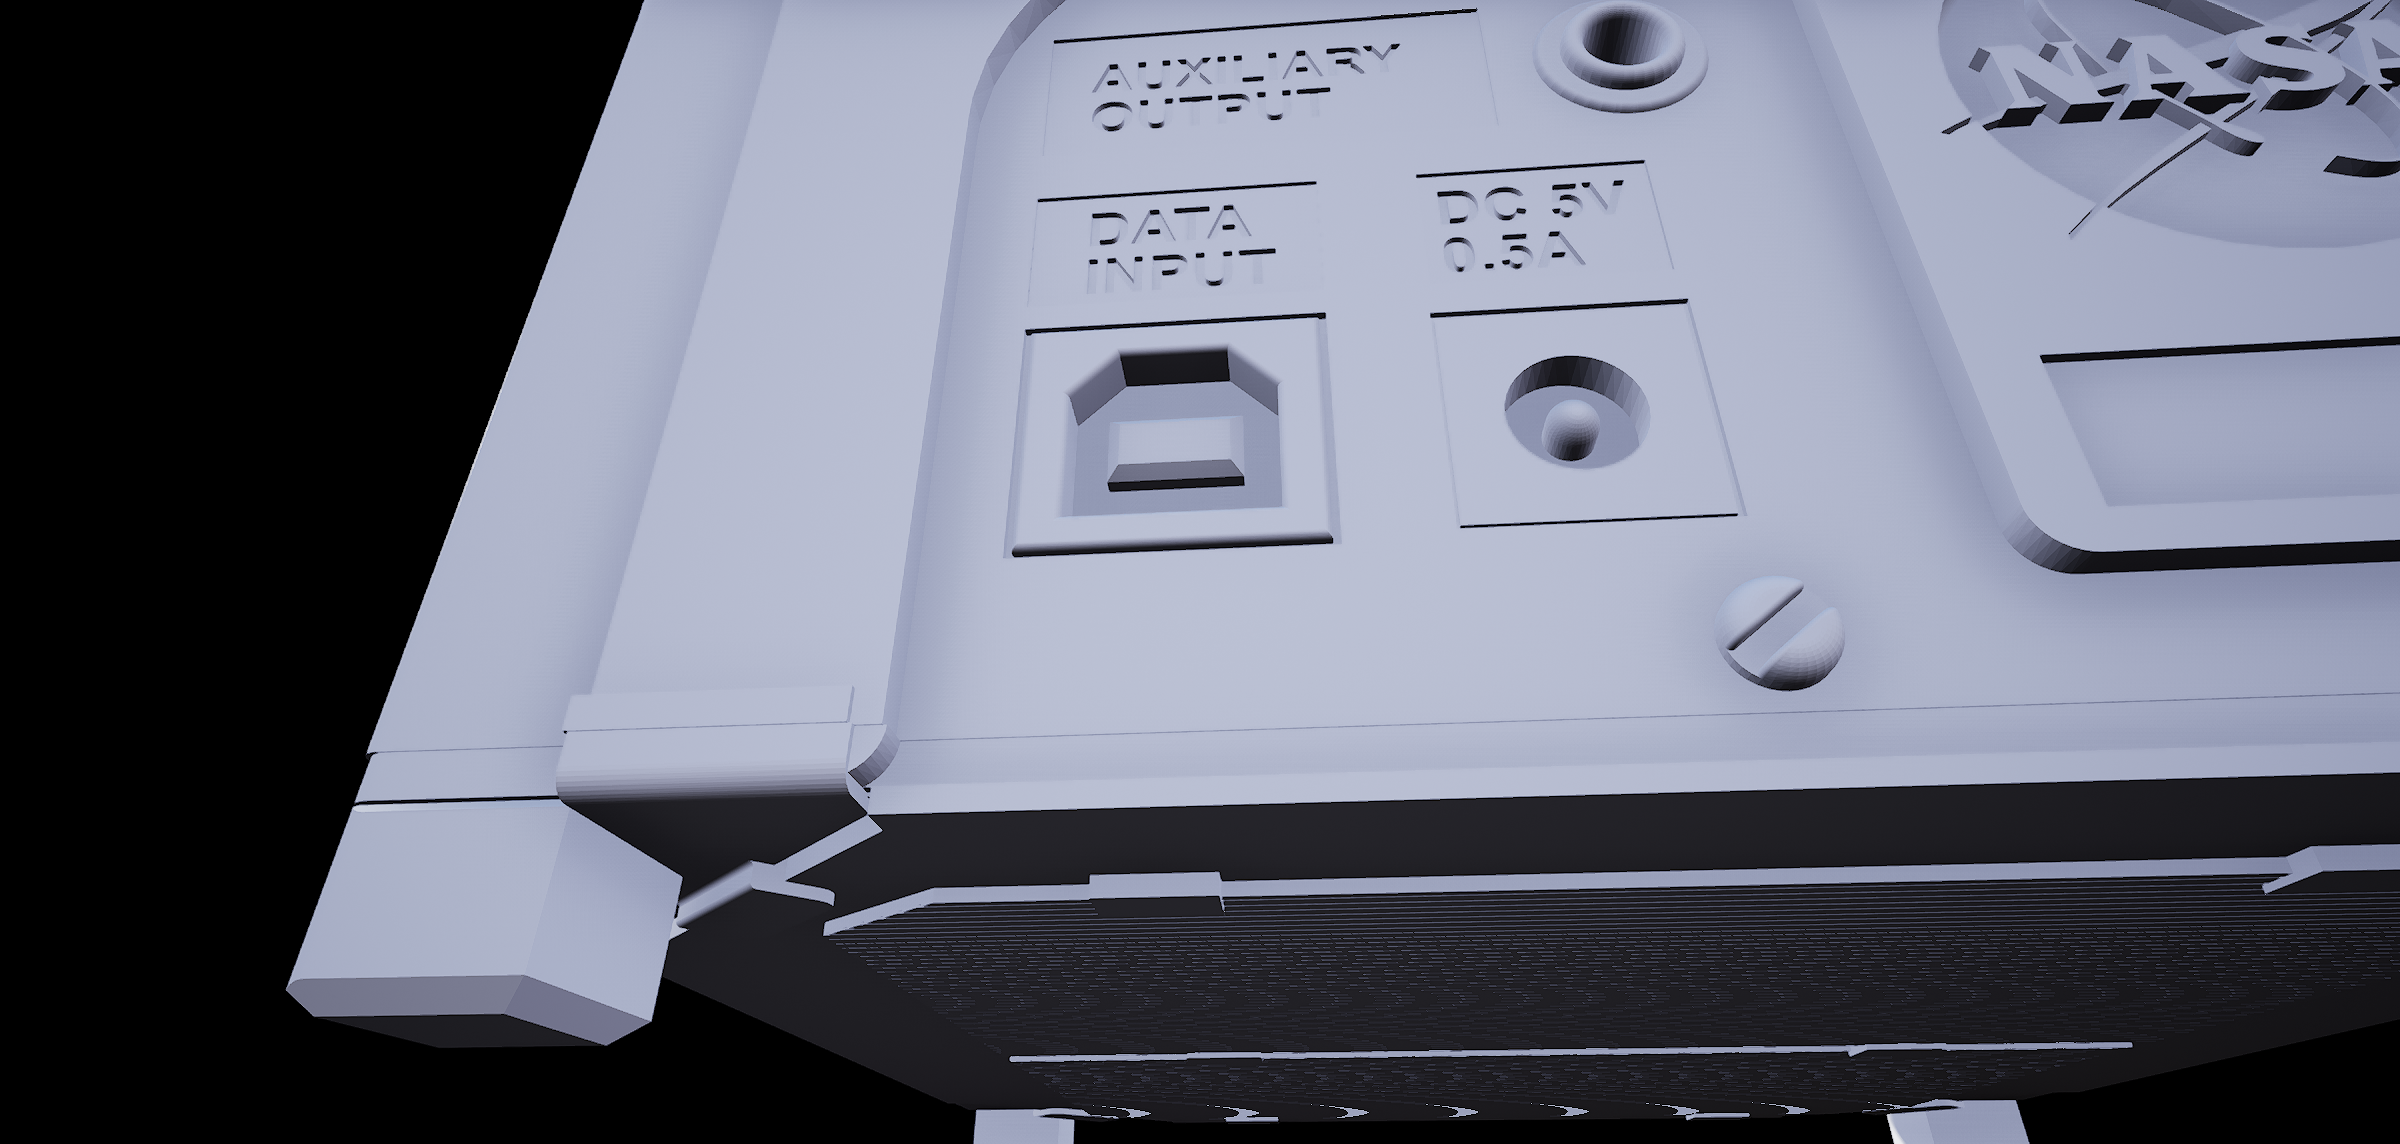aux: (1523, 2, 1720, 132)
dc: (1488, 346, 1674, 481)
usb: (1062, 342, 1306, 528)
